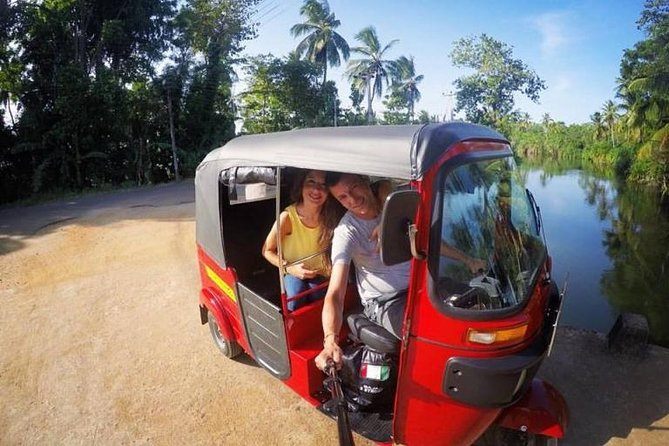tuk tuk: (190, 120, 574, 445)
